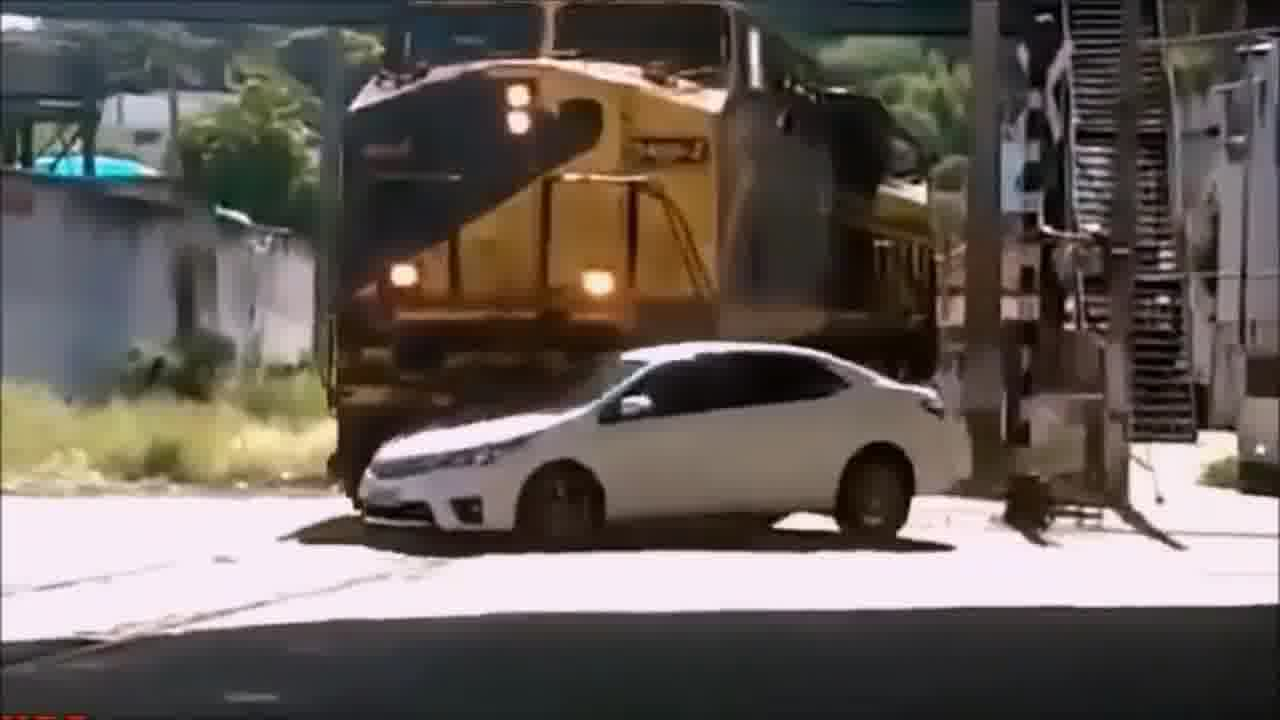crossing railway track: (348, 331, 970, 557)
